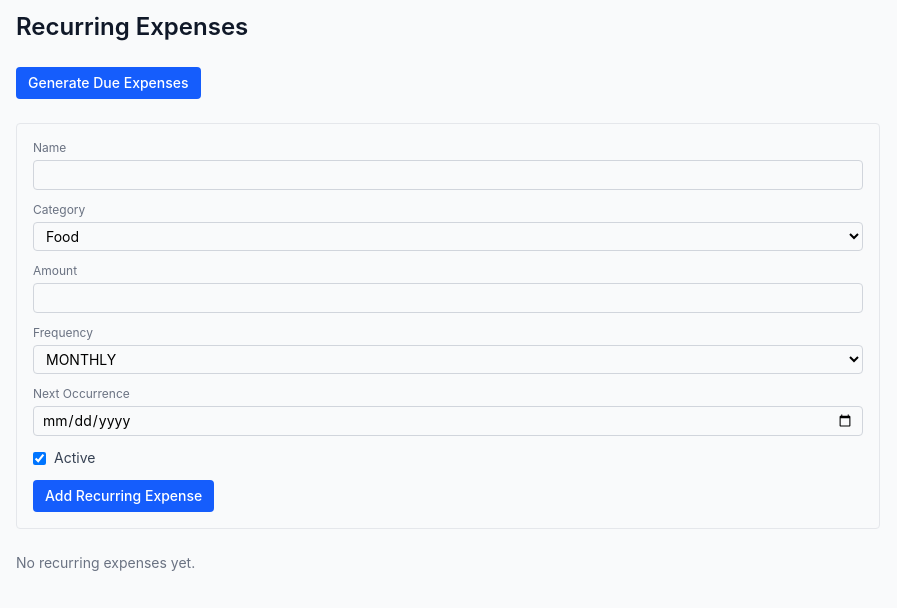
Test case: RecurringExpensesPage › submits the create form and refetches the list
expect the text "No recurring expenses yet." is shown: met, box [16,554,195,571]
Type "Streaming Subscription" into the field labelled "Name" at (448, 175), box [33,160,863,190]
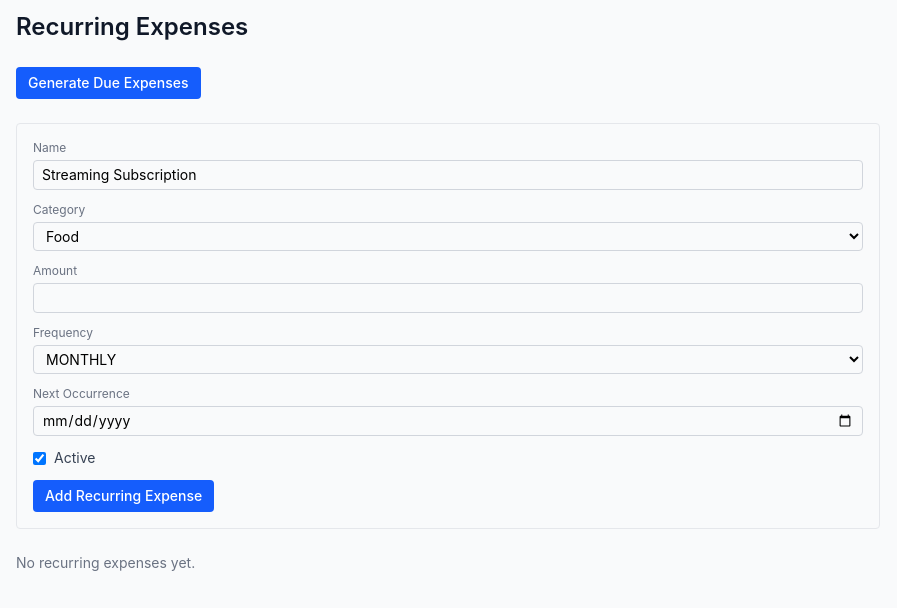
Type "15.99" into the number field labelled "Amount" at (448, 298), box [33,283,863,313]
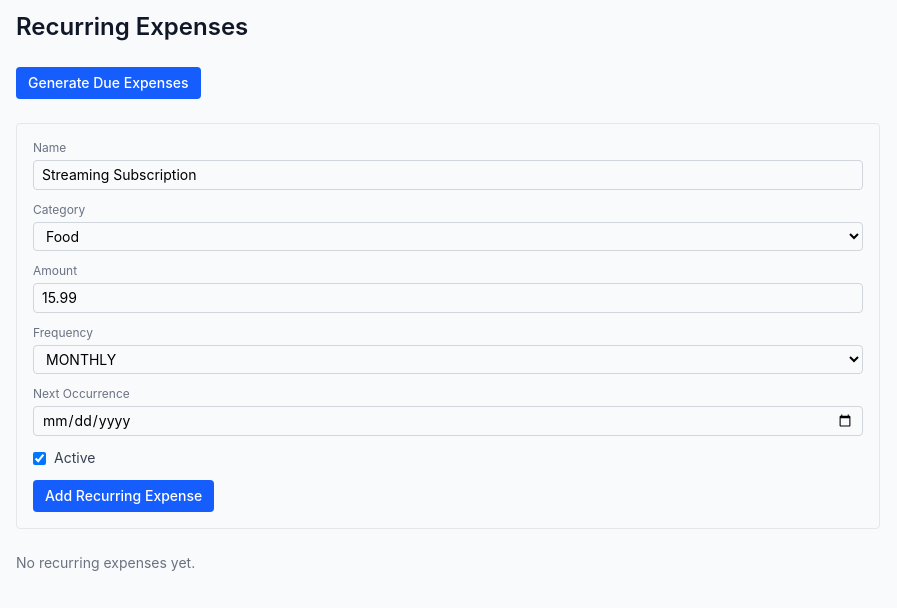
Type "2026-09-01" into the date field labelled "Next Occurrence" at (448, 421), box [33,406,863,436]
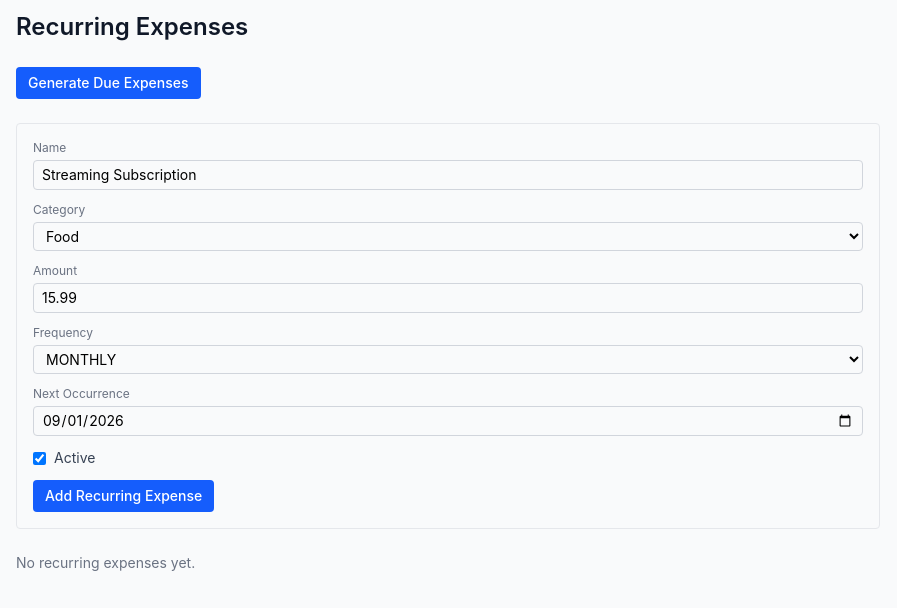
Click the button "Add Recurring Expense" at (124, 496), box [33,480,214,512]
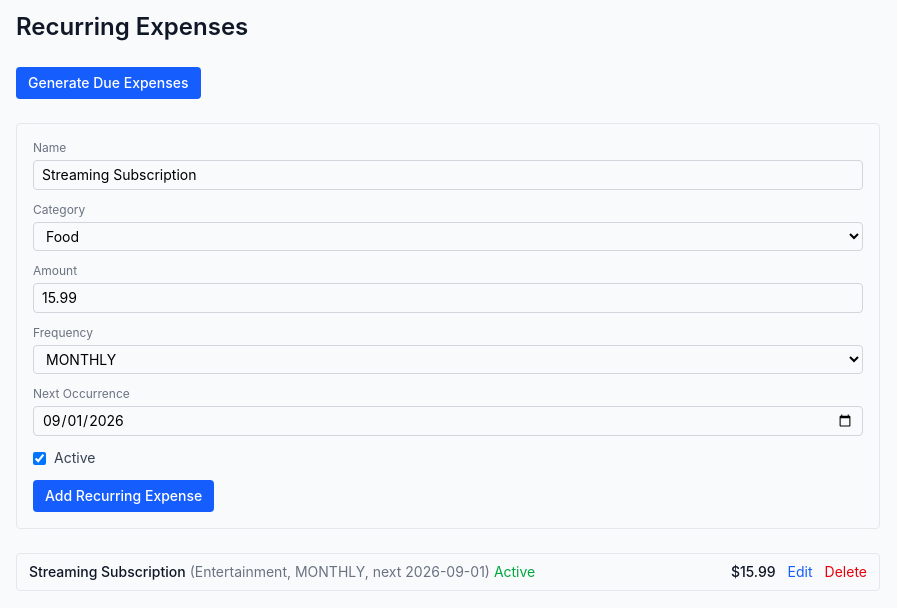
expect the text "Streaming Subscription" is shown: met, box [29,563,186,580]
